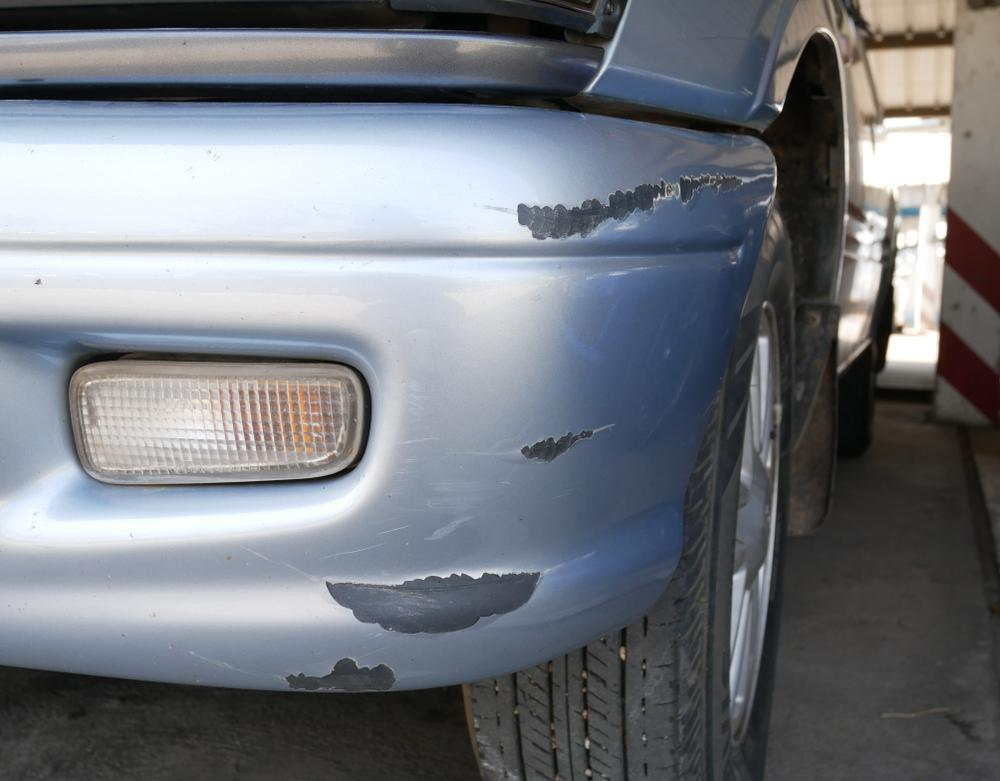scratch: (508, 167, 756, 246), (322, 562, 555, 641), (283, 650, 403, 696), (514, 420, 624, 464)
